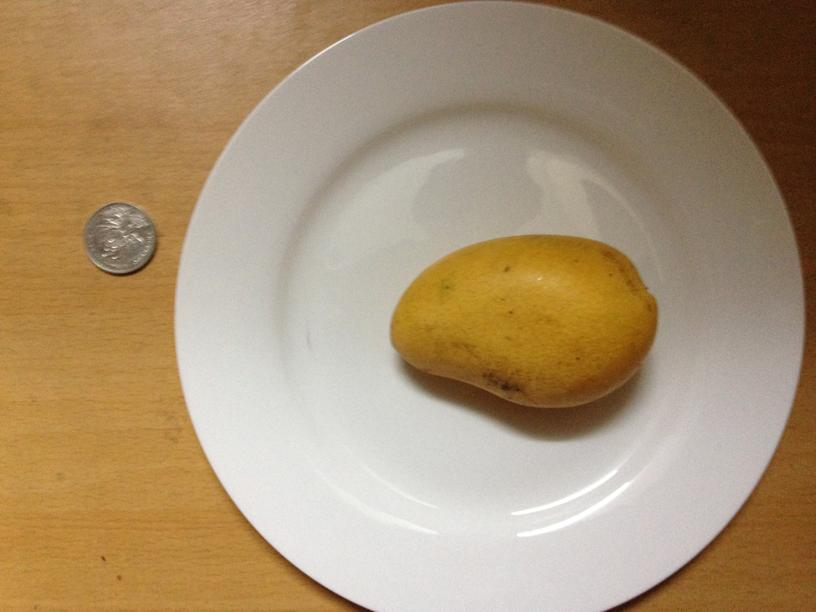coin: (82, 201, 159, 276)
mango: (388, 235, 656, 407)
